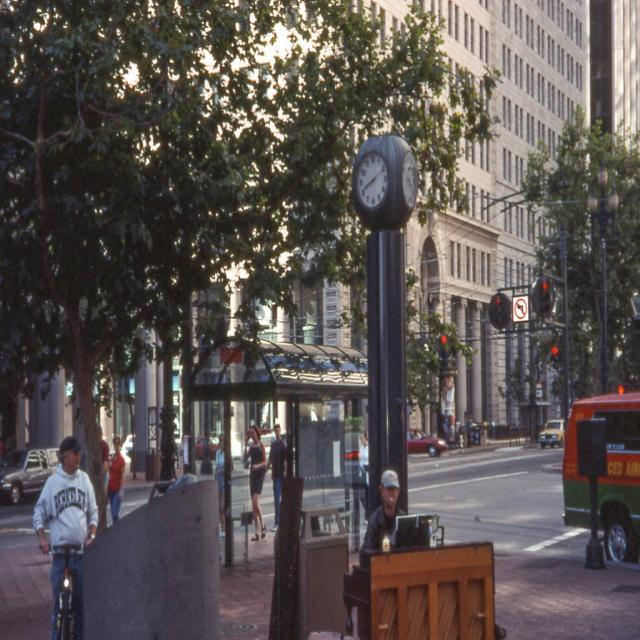traffic light: (538, 280, 551, 312), (493, 295, 505, 322)
